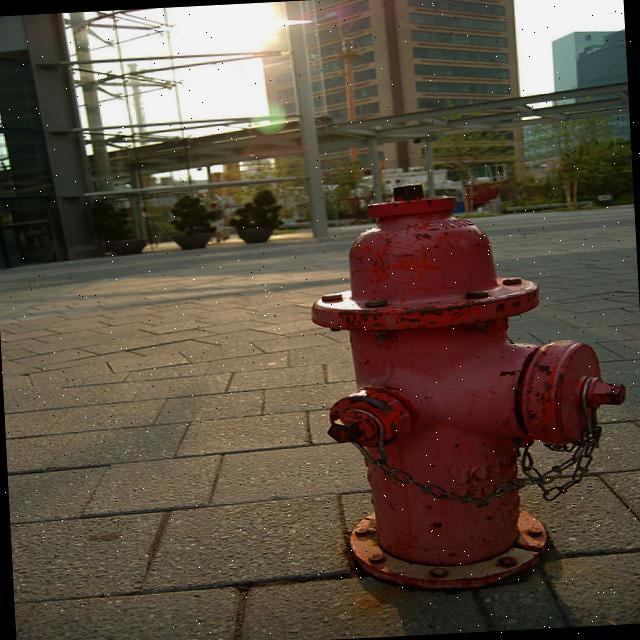fire_hydrant: (299, 169, 636, 602)
